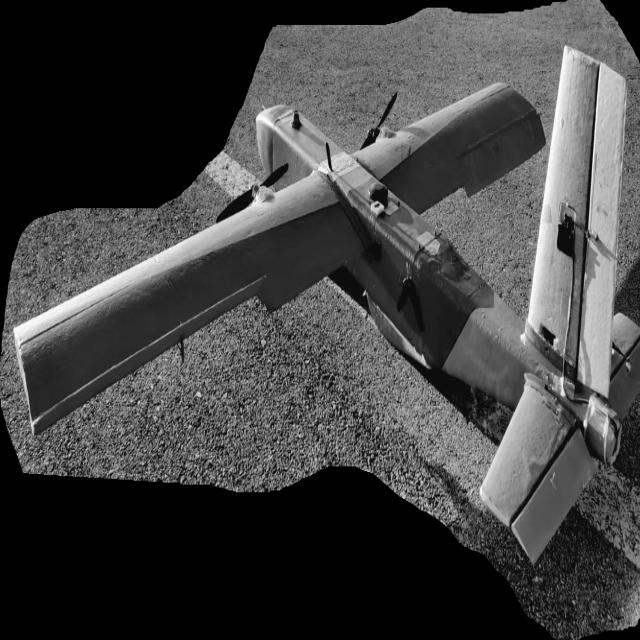iha: (14, 0, 640, 561)
